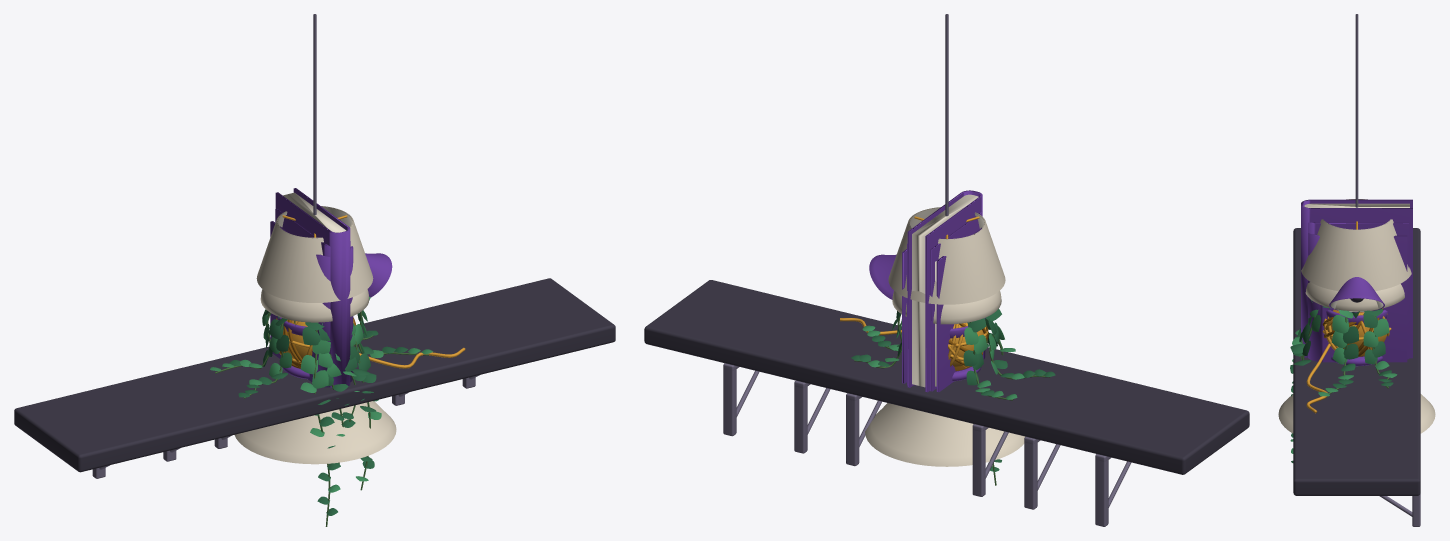
Rendered from props.glb.
3 renders of one model, left to right at view 1: azimuth 30°, elevation 25°; view 2: azimuth 150°, elevation 25°; view 3: azimuth 270°, elevation 25°, orthographic. The views are drawn at different scales.
Visible parts, largest first — view 1: ShelfLarge, PlantPot, LampPendant, LampClassic, BookTall, ShelfMedium, ShelfSmall, LampMushroom, YarnBall, BookThick, LampPendantCord, LampDesk; view 2: ShelfLarge, LampPendant, LampClassic, BookTall, ShelfSmall, PlantPot, ShelfMedium, BookThick, LampMushroom, Book, YarnBall, LampPendantCord (+1 smaller); view 3: ShelfLarge, LampClassic, PlantPot, BookTall, BookThick, LampMushroom, YarnBall, Book, LampDesk, LampPendant, LampPendantCord, ShelfMedium (+1 smaller).
Boxes of the visible parts, bbox=[...] form: ShelfLarge: bbox=[14, 278, 615, 478]; PlantPot: bbox=[210, 296, 433, 526]; LampPendant: bbox=[234, 401, 396, 464]; LampClassic: bbox=[256, 206, 373, 366]; BookTall: bbox=[275, 188, 350, 387]; ShelfMedium: bbox=[118, 303, 513, 461]; ShelfSmall: bbox=[193, 321, 437, 448]; LampMushroom: bbox=[260, 289, 369, 379]; YarnBall: bbox=[276, 317, 465, 368]; BookThick: bbox=[270, 221, 353, 387]; LampPendantCord: bbox=[313, 14, 316, 214]; LampDesk: bbox=[365, 253, 392, 297]; ShelfLarge: bbox=[644, 280, 1249, 526]; LampPendant: bbox=[865, 403, 1024, 466]; LampClassic: bbox=[888, 207, 1005, 370]; BookTall: bbox=[907, 190, 982, 392]; ShelfSmall: bbox=[823, 370, 1008, 496]; PlantPot: bbox=[851, 308, 1055, 485]; ShelfMedium: bbox=[747, 304, 1145, 509]; BookThick: bbox=[902, 227, 985, 392]; LampMushroom: bbox=[892, 291, 1001, 381]; Book: bbox=[907, 211, 982, 391]; YarnBall: bbox=[840, 318, 988, 367]; LampPendantCord: bbox=[945, 14, 948, 216]; ShelfLarge: bbox=[1293, 228, 1420, 526]; LampClassic: bbox=[1301, 199, 1411, 356]; PlantPot: bbox=[1290, 300, 1397, 462]; BookTall: bbox=[1301, 199, 1412, 358]; BookThick: bbox=[1308, 233, 1407, 362]; LampMushroom: bbox=[1305, 282, 1404, 366]; YarnBall: bbox=[1306, 308, 1391, 413]; Book: bbox=[1308, 222, 1409, 359]; LampDesk: bbox=[1329, 277, 1384, 312]; LampPendant: bbox=[1278, 394, 1435, 433]; LampPendantCord: bbox=[1355, 14, 1358, 207]; ShelfMedium: bbox=[1293, 276, 1419, 433].
Bounding box in the file's own units: 1.6 × 1.38 × 0.42.
